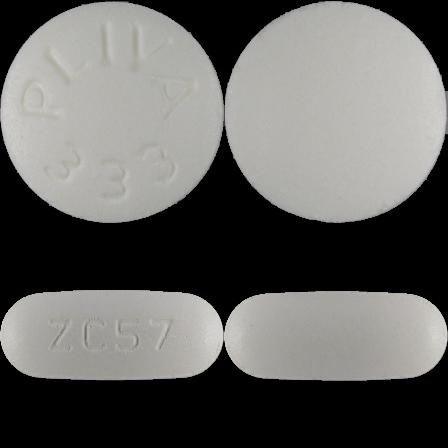63187-511: (0, 0, 224, 224)
